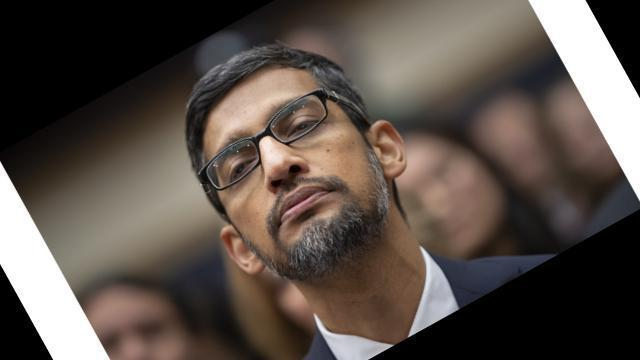Sober: (211, 97, 372, 242)
